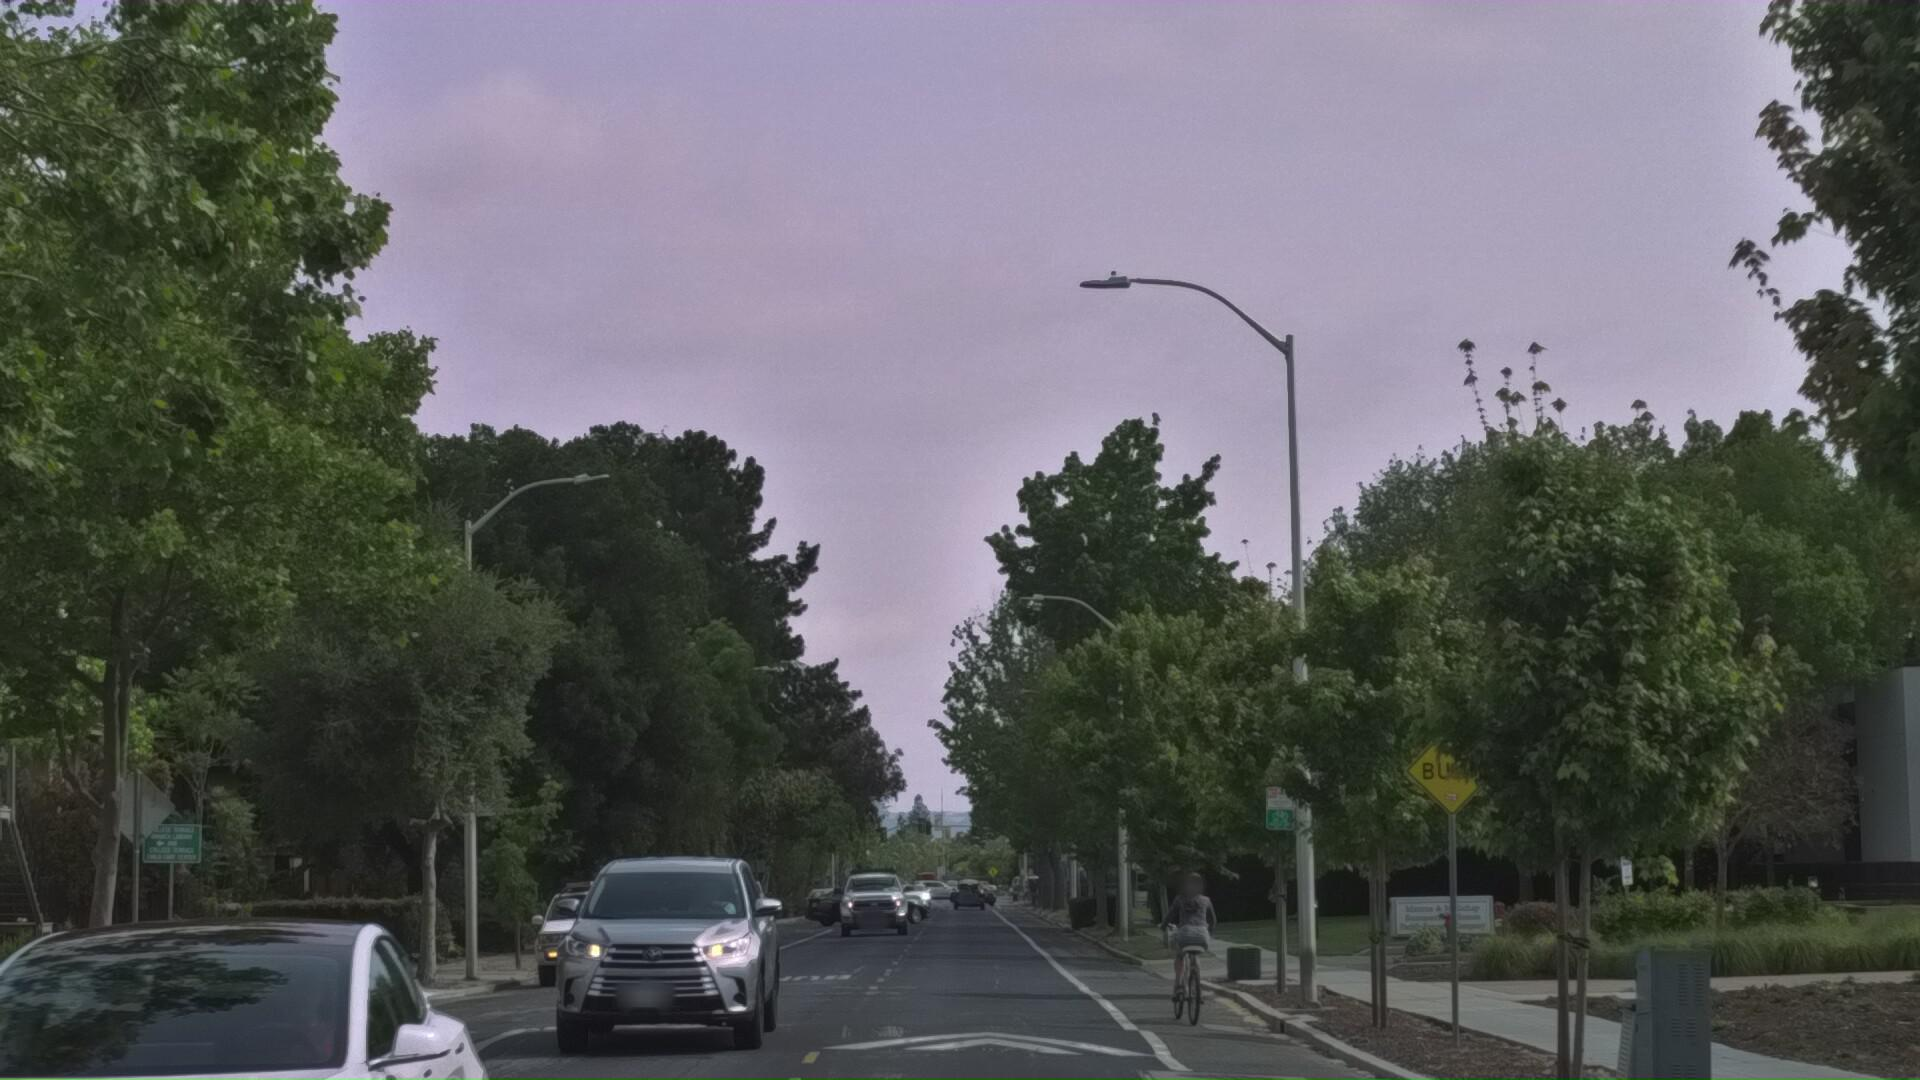bicycle: (1135, 953, 1255, 1080)
car: (0, 985, 477, 1080), (527, 936, 793, 1080), (534, 971, 661, 1080)
